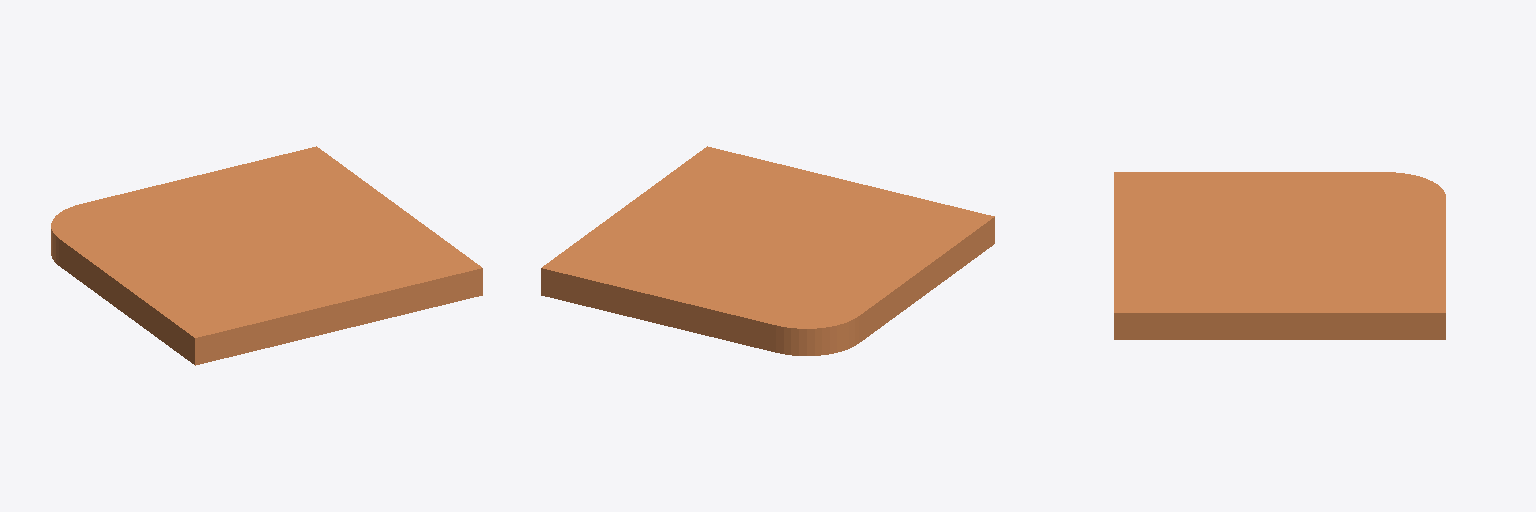
The picture shows the model from 3 angles: view 1: azimuth 30°, elevation 25°; view 2: azimuth 150°, elevation 25°; view 3: azimuth 270°, elevation 25°; orthographic projection.
Visible parts, largest first — view 1: floorCornerRound; view 2: floorCornerRound; view 3: floorCornerRound.
Part boxes in pixels (x1,y1,x2,y2): floorCornerRound: (51, 146, 482, 365); floorCornerRound: (541, 146, 994, 355); floorCornerRound: (1114, 172, 1445, 339).
Size of the model in its own units: 1 by 0.0909 by 1.